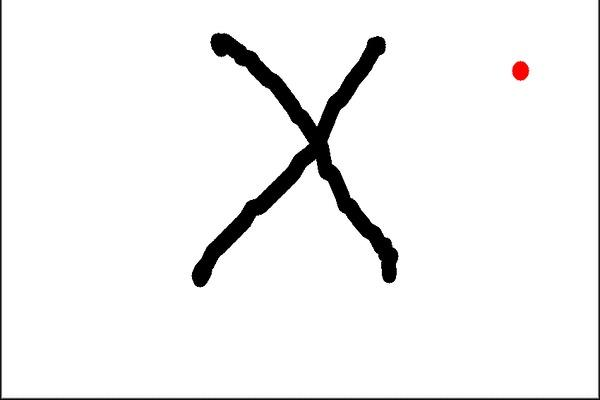X: (172, 10, 430, 314)
